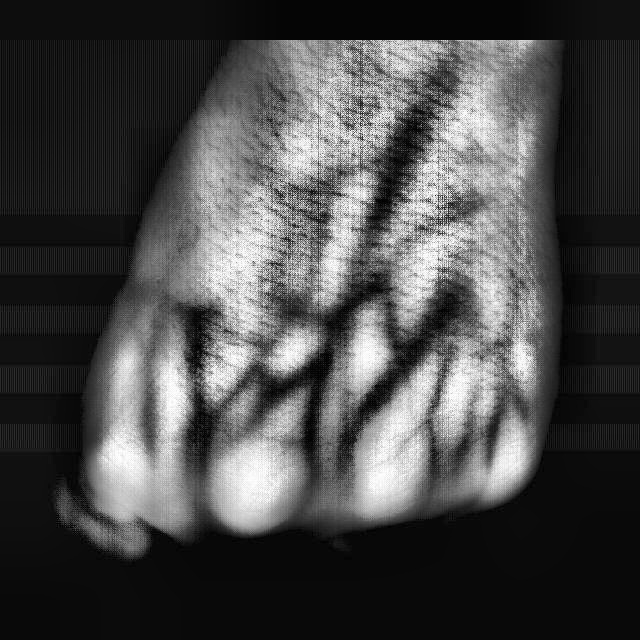Vein: (347, 94, 440, 273)
